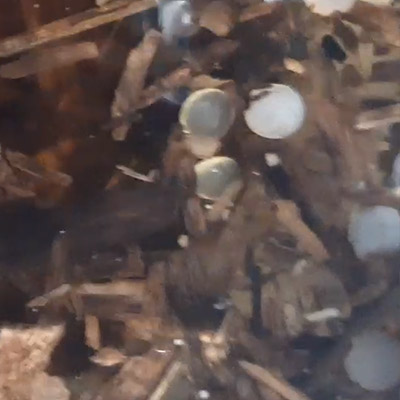nurdle: (242, 81, 313, 141), (175, 91, 243, 143), (343, 202, 400, 252), (193, 156, 249, 205)
